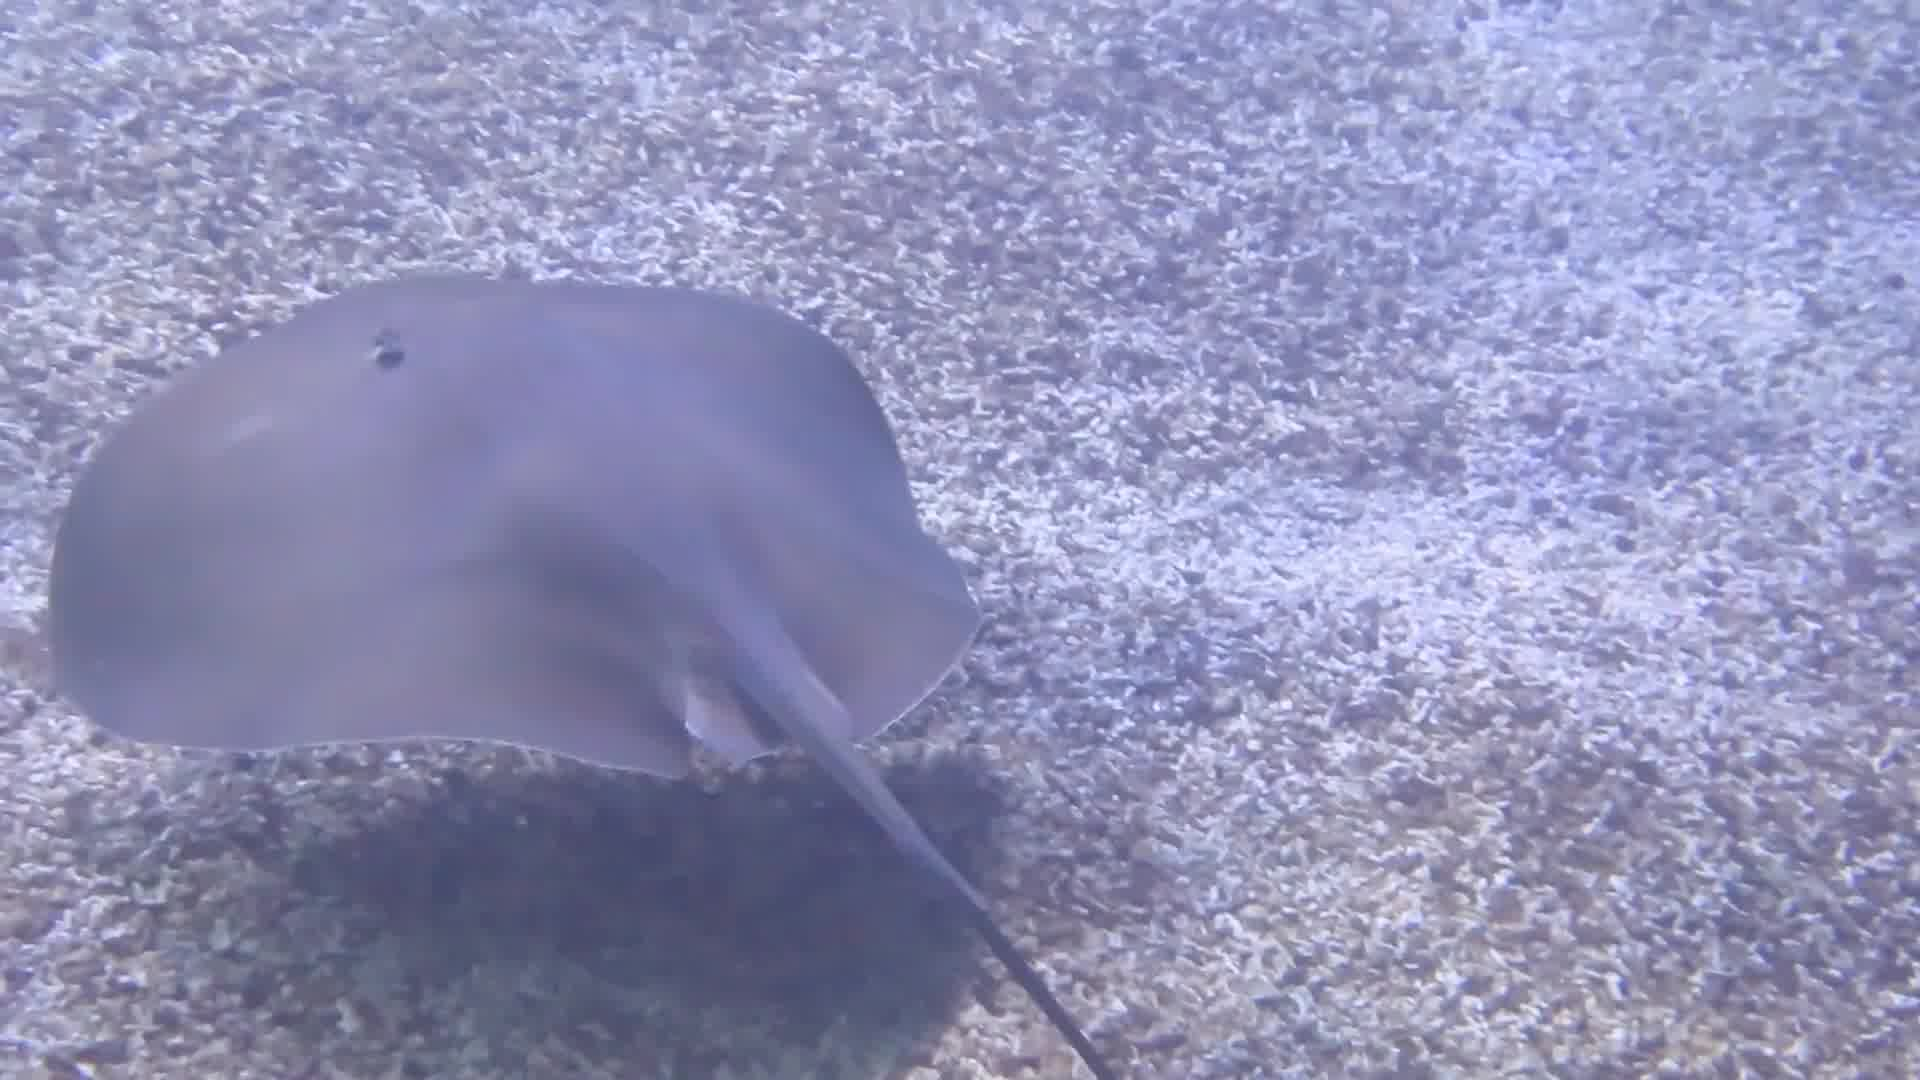Dasyatis akajei: (1, 272, 1075, 1080)
